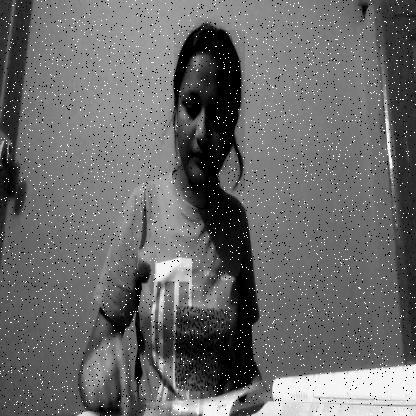Normal: (174, 30, 245, 191)
